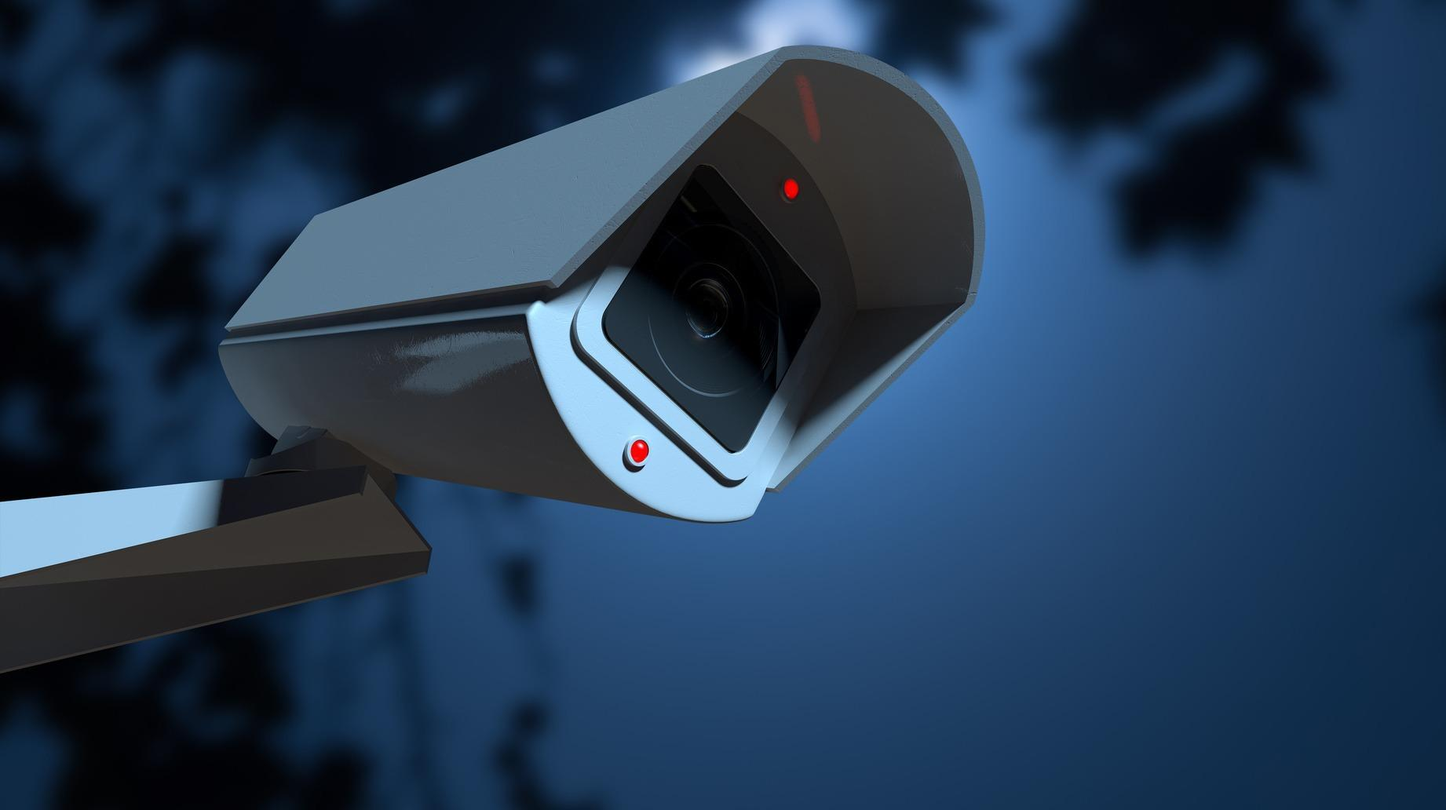CCTV: (0, 46, 984, 672)
